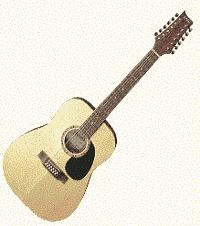guitar: (4, 11, 195, 222)
